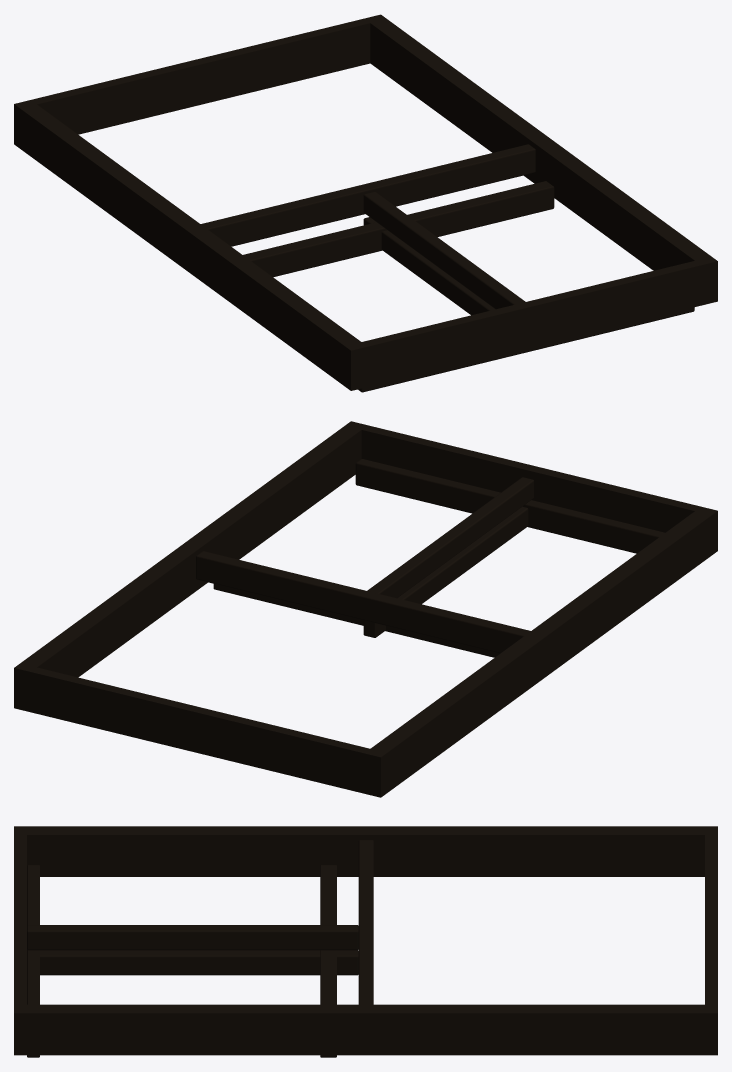
The model's file is pz_window_wooden_open.obj.
3 renders of one model, top to bottom at view 1: azimuth 30°, elevation 25°; view 2: azimuth 150°, elevation 25°; view 3: azimuth 270°, elevation 25°, orthographic. The views are drawn at different scales.
Visible parts, largest first — view 1: pz_window_wooden_open; view 2: pz_window_wooden_open; view 3: pz_window_wooden_open.
Part boxes in pixels (x1,y1,x2,y2): pz_window_wooden_open: (14, 14, 717, 392); pz_window_wooden_open: (14, 421, 717, 797); pz_window_wooden_open: (14, 826, 717, 1057).
Size of the model in its own units: 0.6094 by 0.081 by 0.9696.
Materials: 2 (2 with a texture image).
